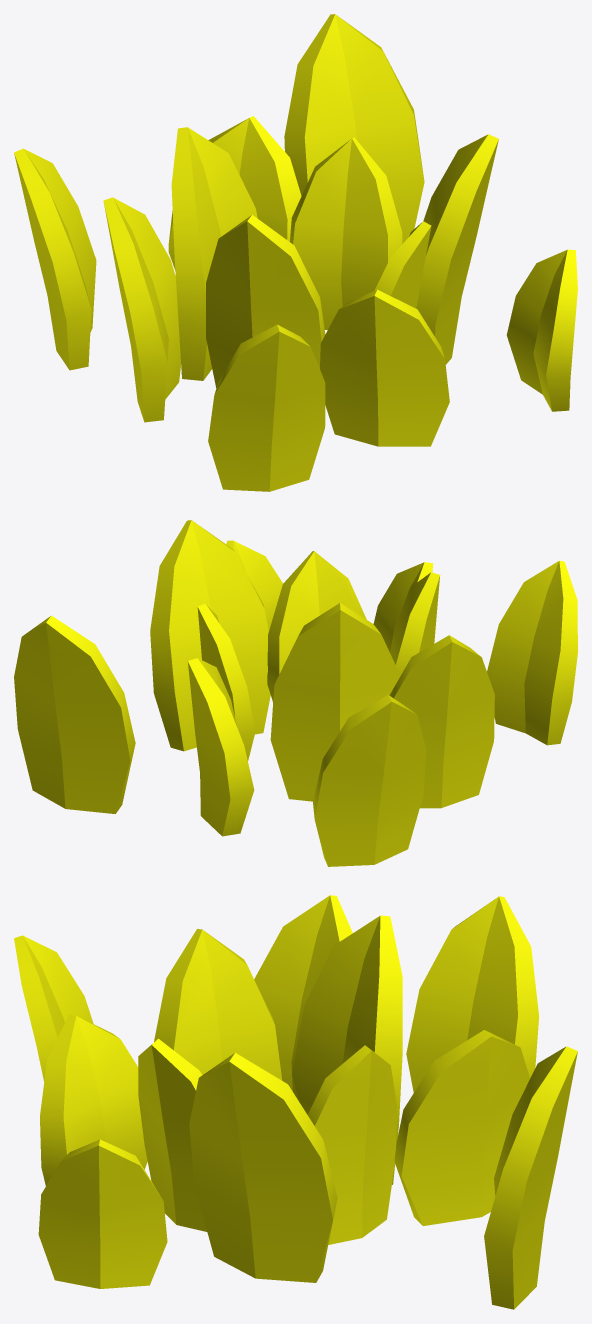
Rendered from kaykit-grass-1-d-color-1.glb.
3 renders of one model, top to bottom at view 1: azimuth 30°, elevation 25°; view 2: azimuth 150°, elevation 25°; view 3: azimuth 270°, elevation 25°, orthographic. The views are drawn at different scales.
Visible parts, largest first — view 1: Grass_1_D_Color1; view 2: Grass_1_D_Color1; view 3: Grass_1_D_Color1.
Boxes of the visible parts, x1,y1,x2,y2 form: Grass_1_D_Color1: (14,14,577,491); Grass_1_D_Color1: (14,520,577,866); Grass_1_D_Color1: (14,895,577,1309).
Size of the model in its own units: 1.08 by 0.5885 by 1.18.
